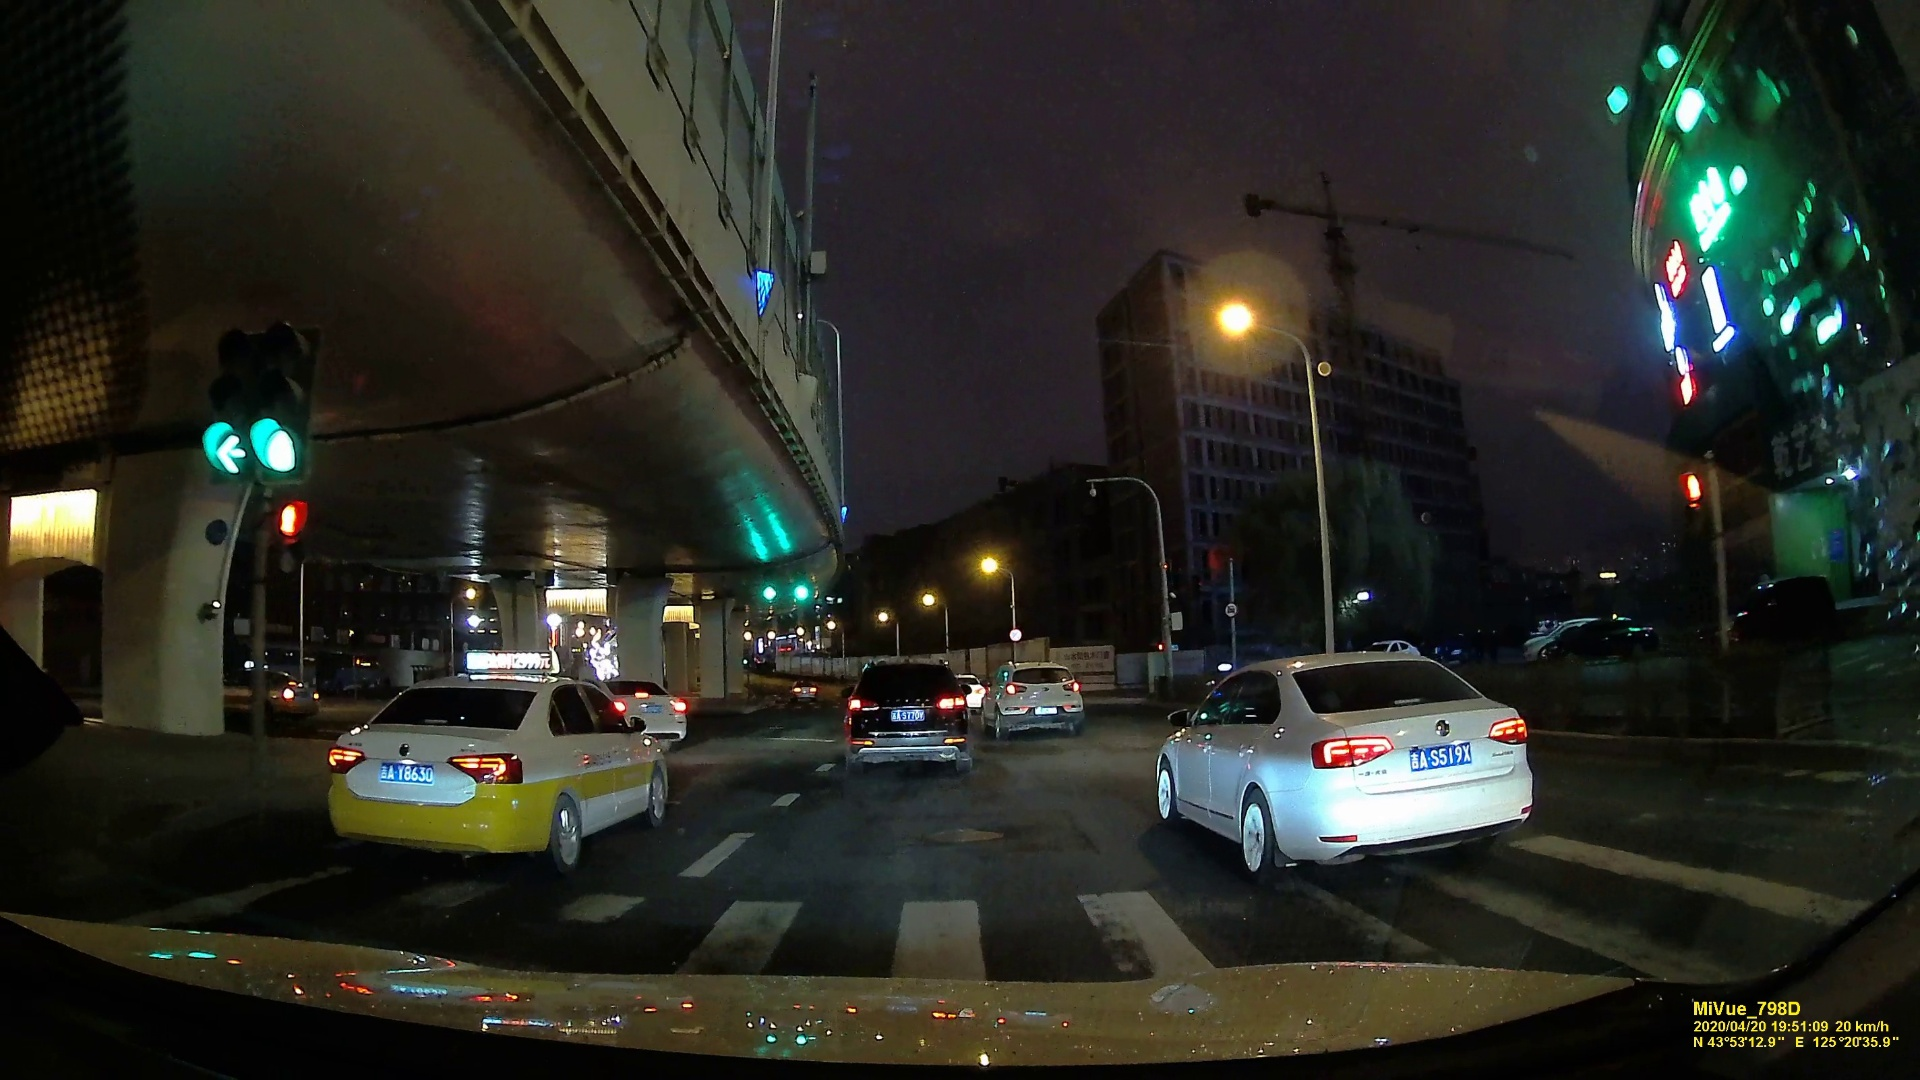traffic_sign: (251, 319, 313, 475), (202, 318, 249, 472), (791, 574, 812, 600), (762, 576, 778, 600), (1226, 603, 1237, 617)
vehicle: (1150, 647, 1549, 889), (316, 667, 678, 872), (844, 655, 975, 774), (978, 662, 1088, 735), (1528, 611, 1673, 665), (601, 675, 683, 738), (789, 676, 822, 700)
